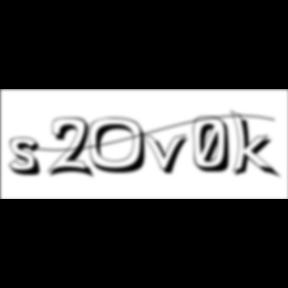0: (192, 115, 238, 174)
2: (48, 117, 98, 181)
O: (88, 117, 154, 176)
k: (230, 108, 282, 181)
s: (10, 137, 48, 179)
v: (141, 131, 195, 177)
